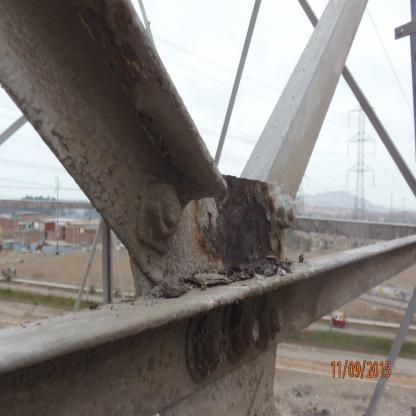Grado3: (209, 155, 296, 299)
